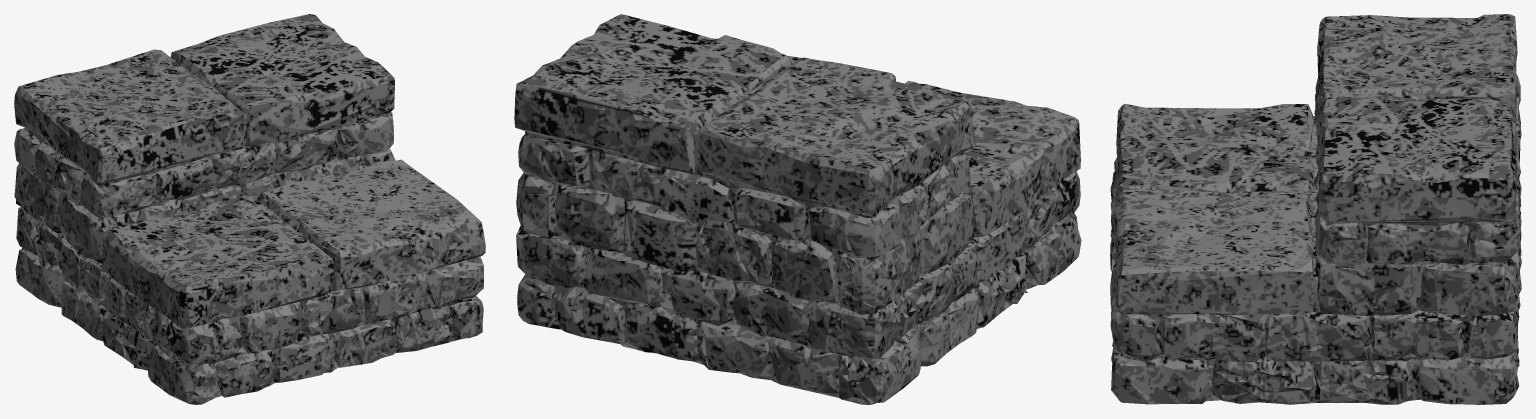
File: rough_stone_stairs_low.fbx
3 views of the same model, side by side, from view 1: azimuth 30°, elevation 25°; view 2: azimuth 150°, elevation 25°; view 3: azimuth 270°, elevation 25° (orthographic). The views are drawn at different scales.
Visible parts, largest first — view 1: Dungeon Stone Stairs.Inch.2X2.Medium Stairs; view 2: Dungeon Stone Stairs.Inch.2X2.Medium Stairs; view 3: Dungeon Stone Stairs.Inch.2X2.Medium Stairs.
Part boxes in pixels (x1,y1,x2,y2): Dungeon Stone Stairs.Inch.2X2.Medium Stairs: [14, 14, 485, 404]; Dungeon Stone Stairs.Inch.2X2.Medium Stairs: [514, 14, 1081, 404]; Dungeon Stone Stairs.Inch.2X2.Medium Stairs: [1110, 14, 1521, 404].
Bounding box in the file's own units: 5132 × 3184 × 5167.
1 material, 1 textured.
